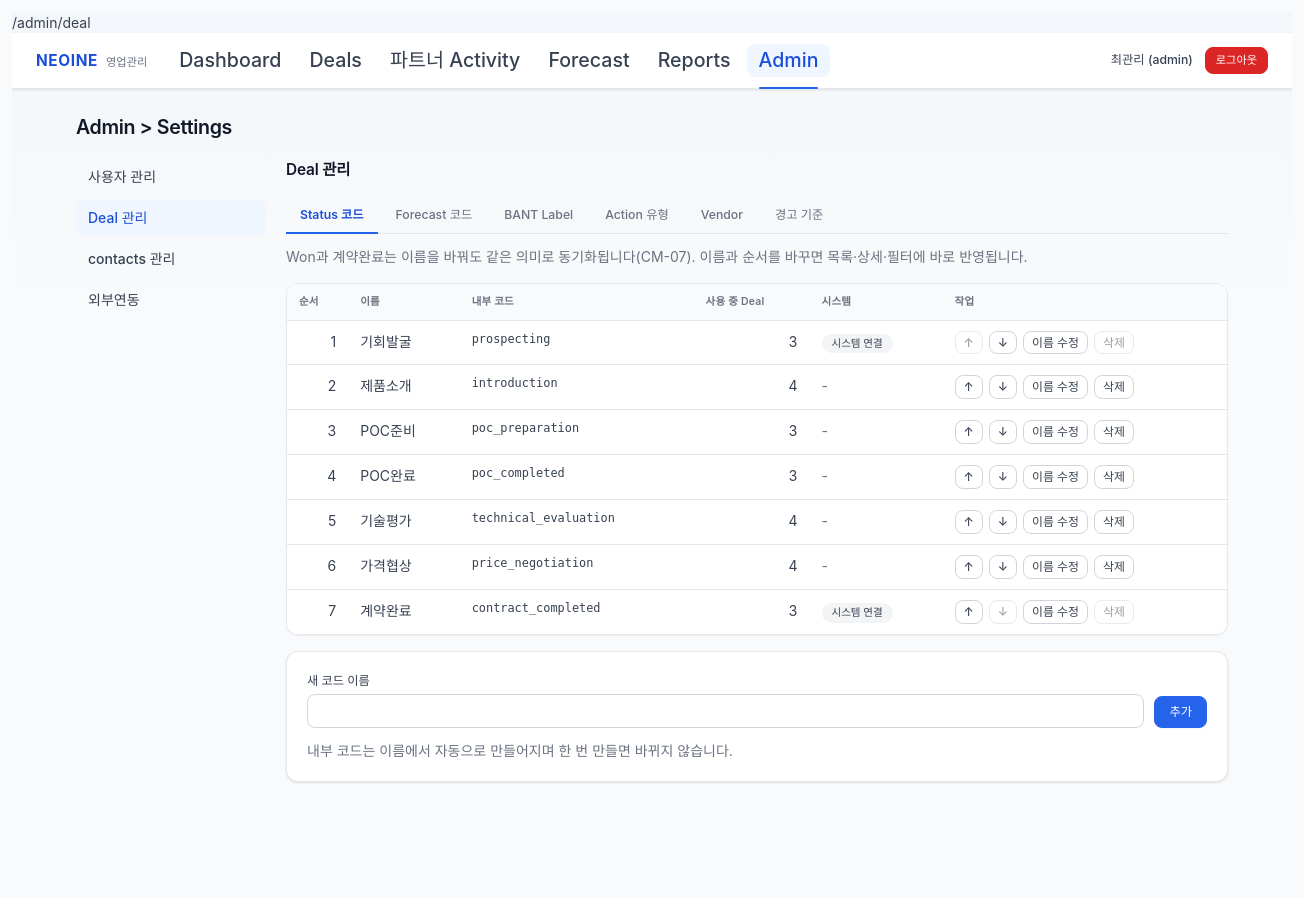
Admin 변경이 다른 화면에 반영된다 (6-a Status/Forecast 이름) › shows a renamed Status in the Deals filter, the list rows and the detail
Click the button "이름 수정" in the row of "가격협상" at (1055, 567), box [1023,555,1088,579]
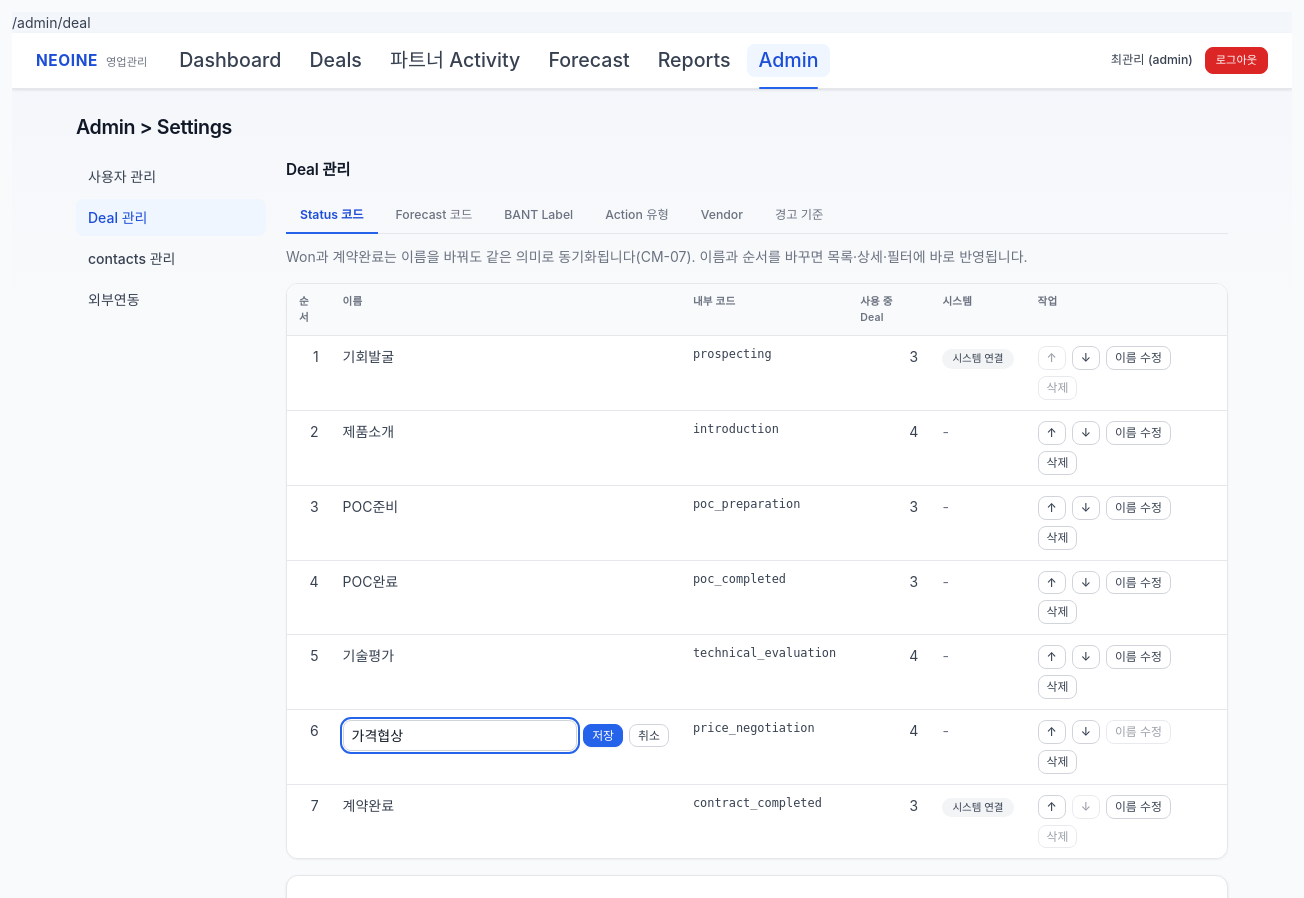
Replace the text in the field named "코드 이름" with "가격 협의" at (460, 736), box [343,720,577,751]
Click the button "저장" at (603, 735), box [583,724,623,747]
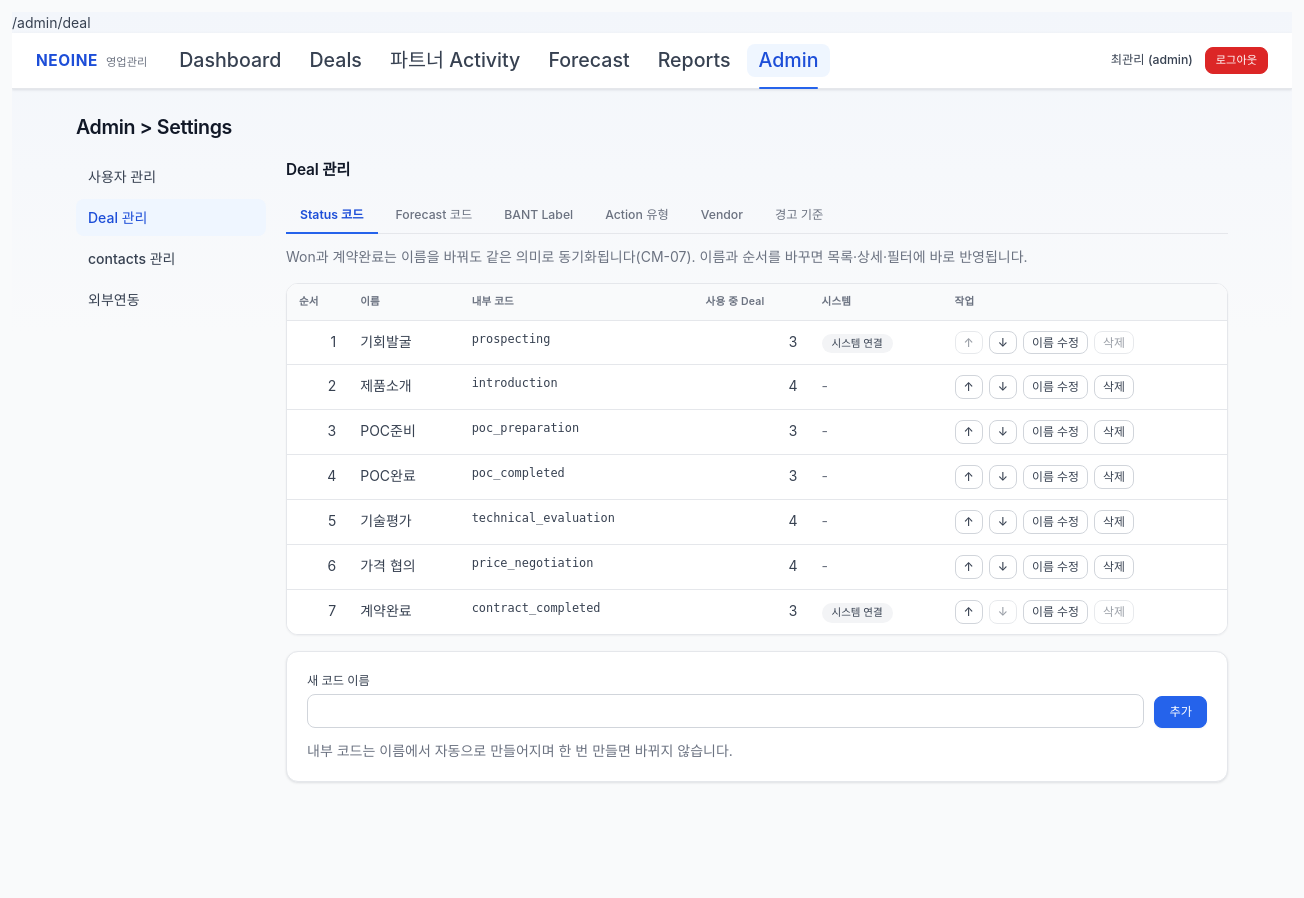
Now the row "6 가격 협의 price_negotiation 4 - ↑ ↓ 이름 수정 삭제" is shown, box [287,545,1227,590]
Click the link "Deals" at (336, 60), box [309,48,362,72]
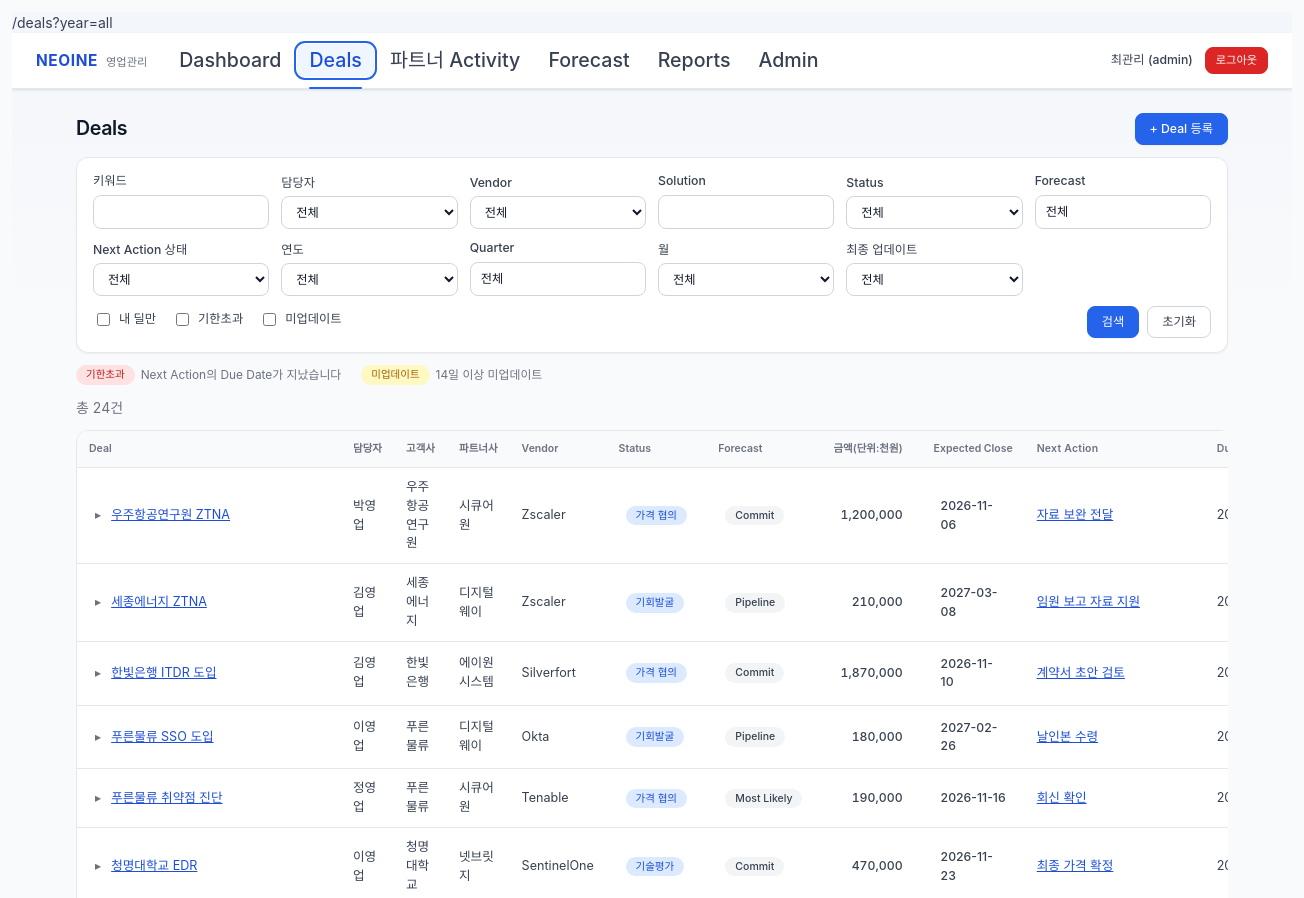
Expected: the cell "가격협상" is not shown
Select "가격 협의" in the dropdown labelled "Status" at (934, 213), box [846,196,1023,229]
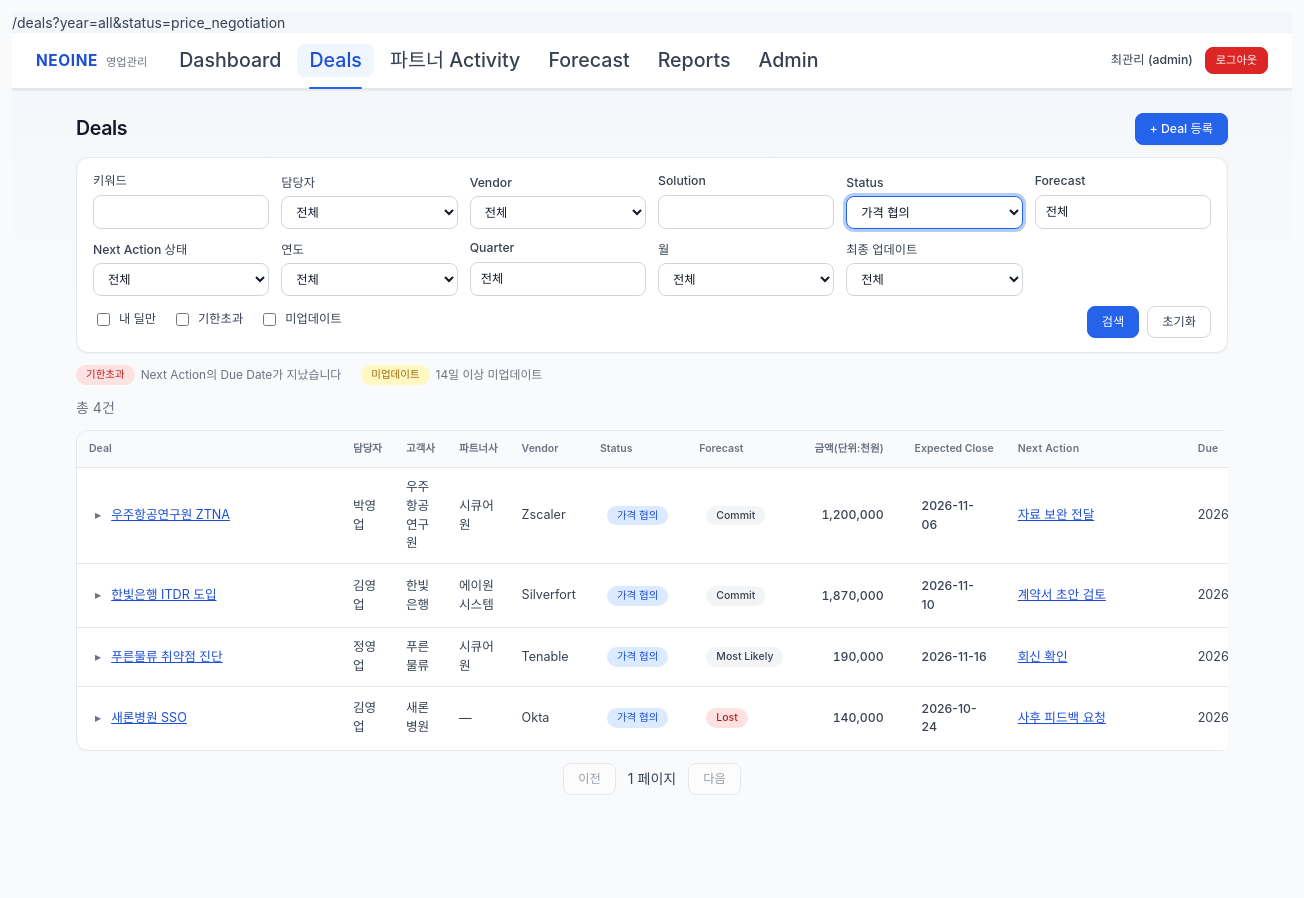
Now the button with aria-label "Status 편집" reads "가격 협의", box [600,503,675,528]
Now the text "총 4건" is shown, box [76,399,115,416]
Click the link "우주항공연구원 ZTNA" at (171, 516), box [111,506,230,525]
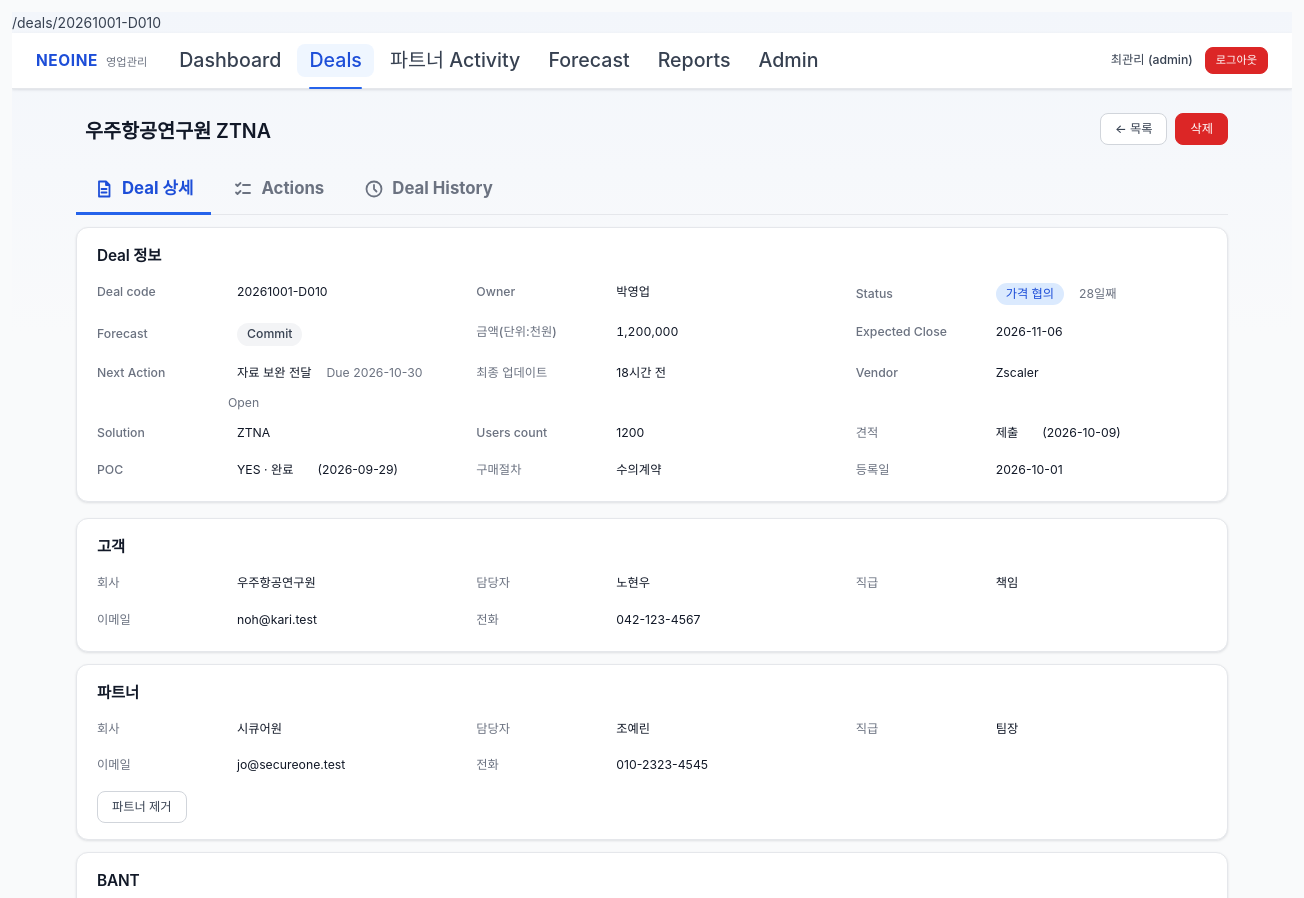
Now the button with aria-label "Status 수정" reads "가격 협의"
Click the button with aria-label "Status 수정" at (1030, 294), box [987,277,1073,311]
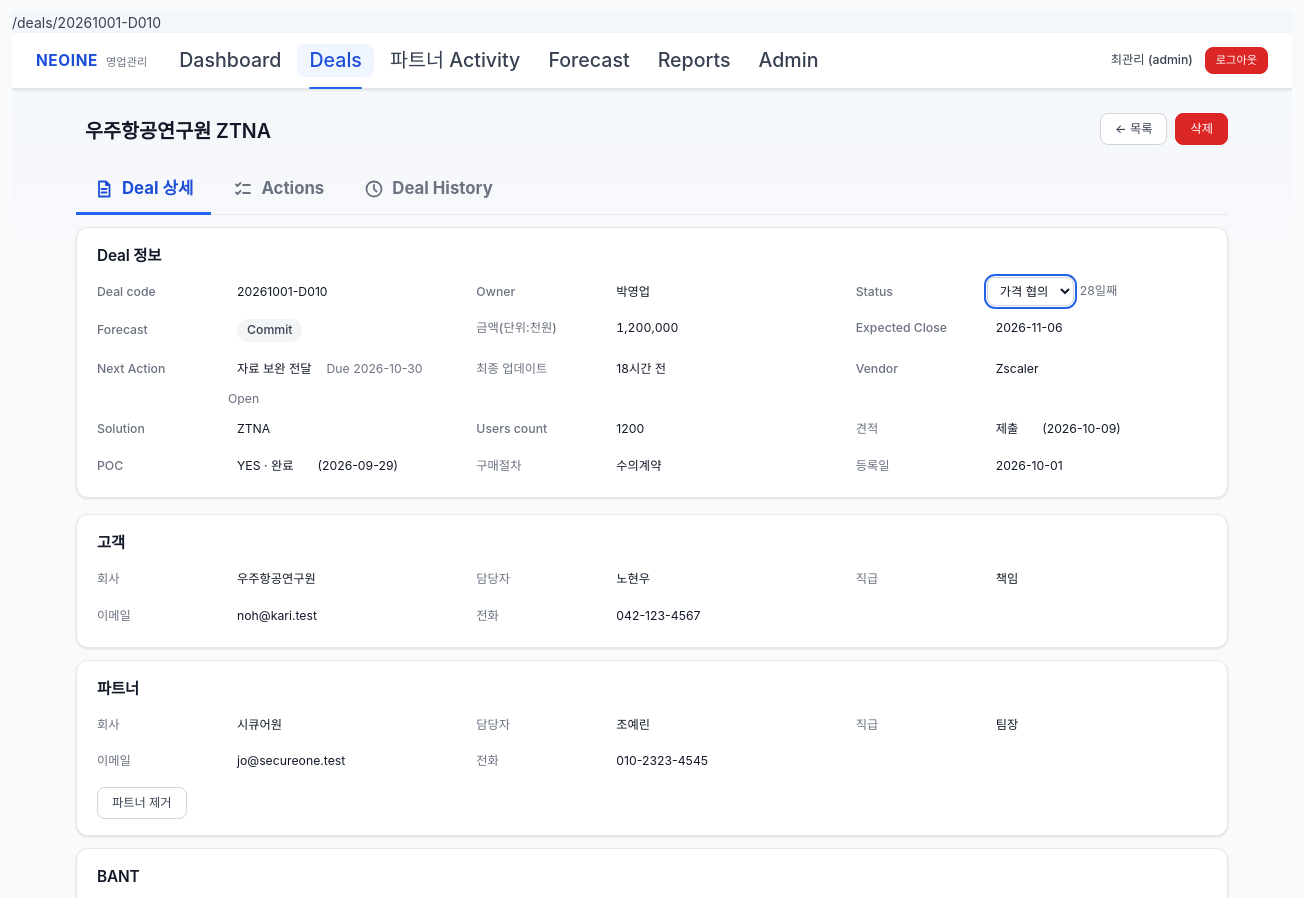
Now the dropdown named "Status" shows "가격 협의", box [987,277,1074,306]
